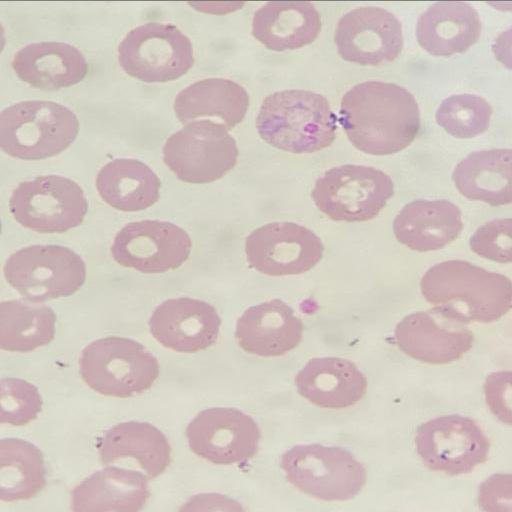Infected: (256, 89, 336, 153)
Uninfected: (339, 80, 419, 154), (420, 258, 511, 323), (1, 99, 80, 162), (311, 165, 395, 223), (281, 442, 364, 500), (4, 243, 85, 302), (79, 336, 158, 396), (162, 121, 238, 183), (8, 173, 87, 232), (244, 221, 325, 276), (185, 406, 260, 465), (118, 23, 193, 82), (111, 218, 191, 273), (414, 414, 487, 474), (394, 309, 474, 363), (96, 419, 169, 478), (334, 6, 404, 65), (148, 297, 221, 353), (235, 300, 303, 357), (173, 77, 248, 128), (11, 40, 87, 90), (294, 356, 367, 408), (393, 197, 462, 251), (416, 1, 481, 57), (95, 157, 161, 211), (252, 1, 321, 52), (435, 92, 491, 137)
